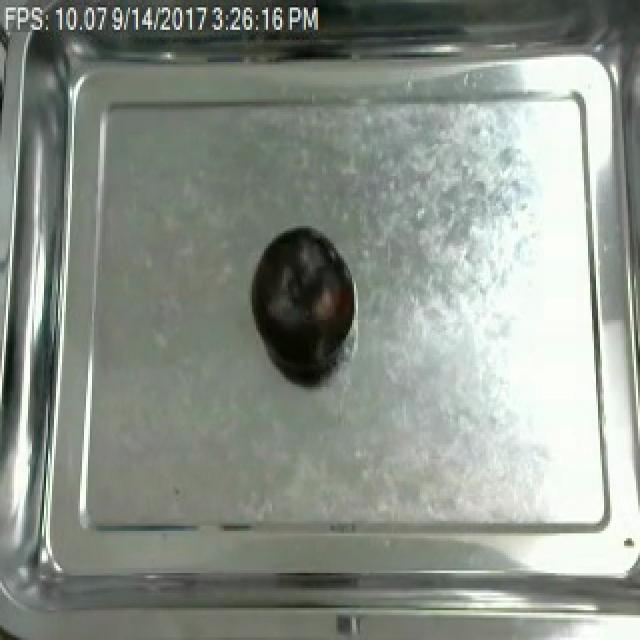Fruit: (246, 223, 354, 377)
